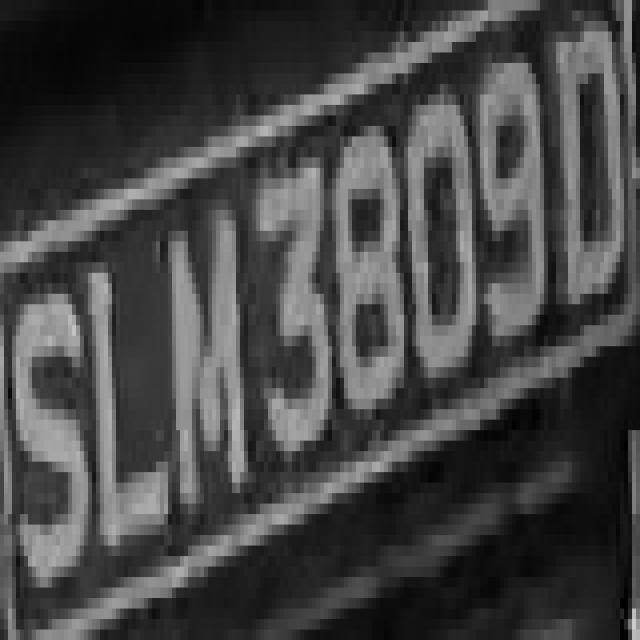0: (408, 105, 480, 378)
3: (248, 126, 340, 483)
8: (324, 126, 416, 430)
9: (464, 53, 544, 388)
D: (556, 0, 632, 336)
L: (76, 230, 168, 546)
M: (156, 178, 244, 514)
S: (4, 252, 84, 608)
